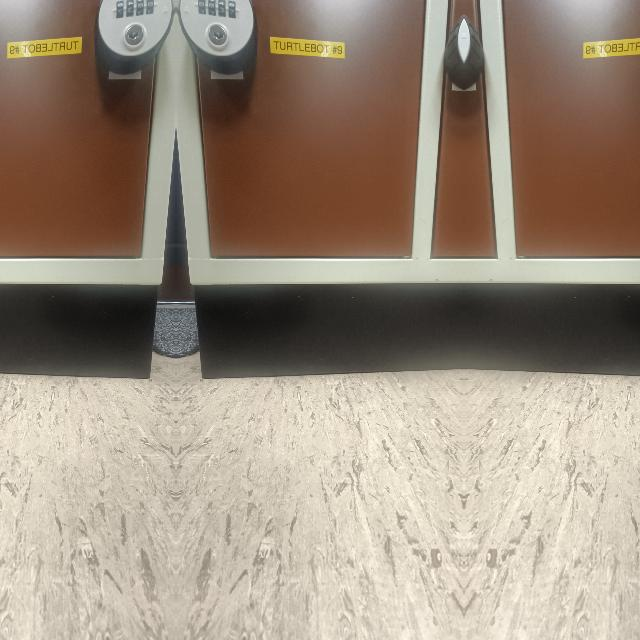obstacle: (174, 7, 463, 379), (463, 7, 640, 379), (0, 7, 175, 379)
